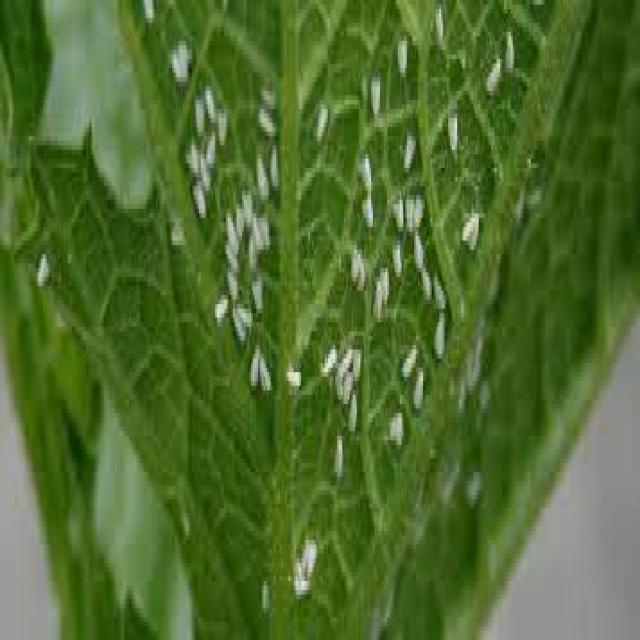Whitefly: (304, 38, 488, 432), (171, 19, 281, 424), (293, 509, 327, 604)
